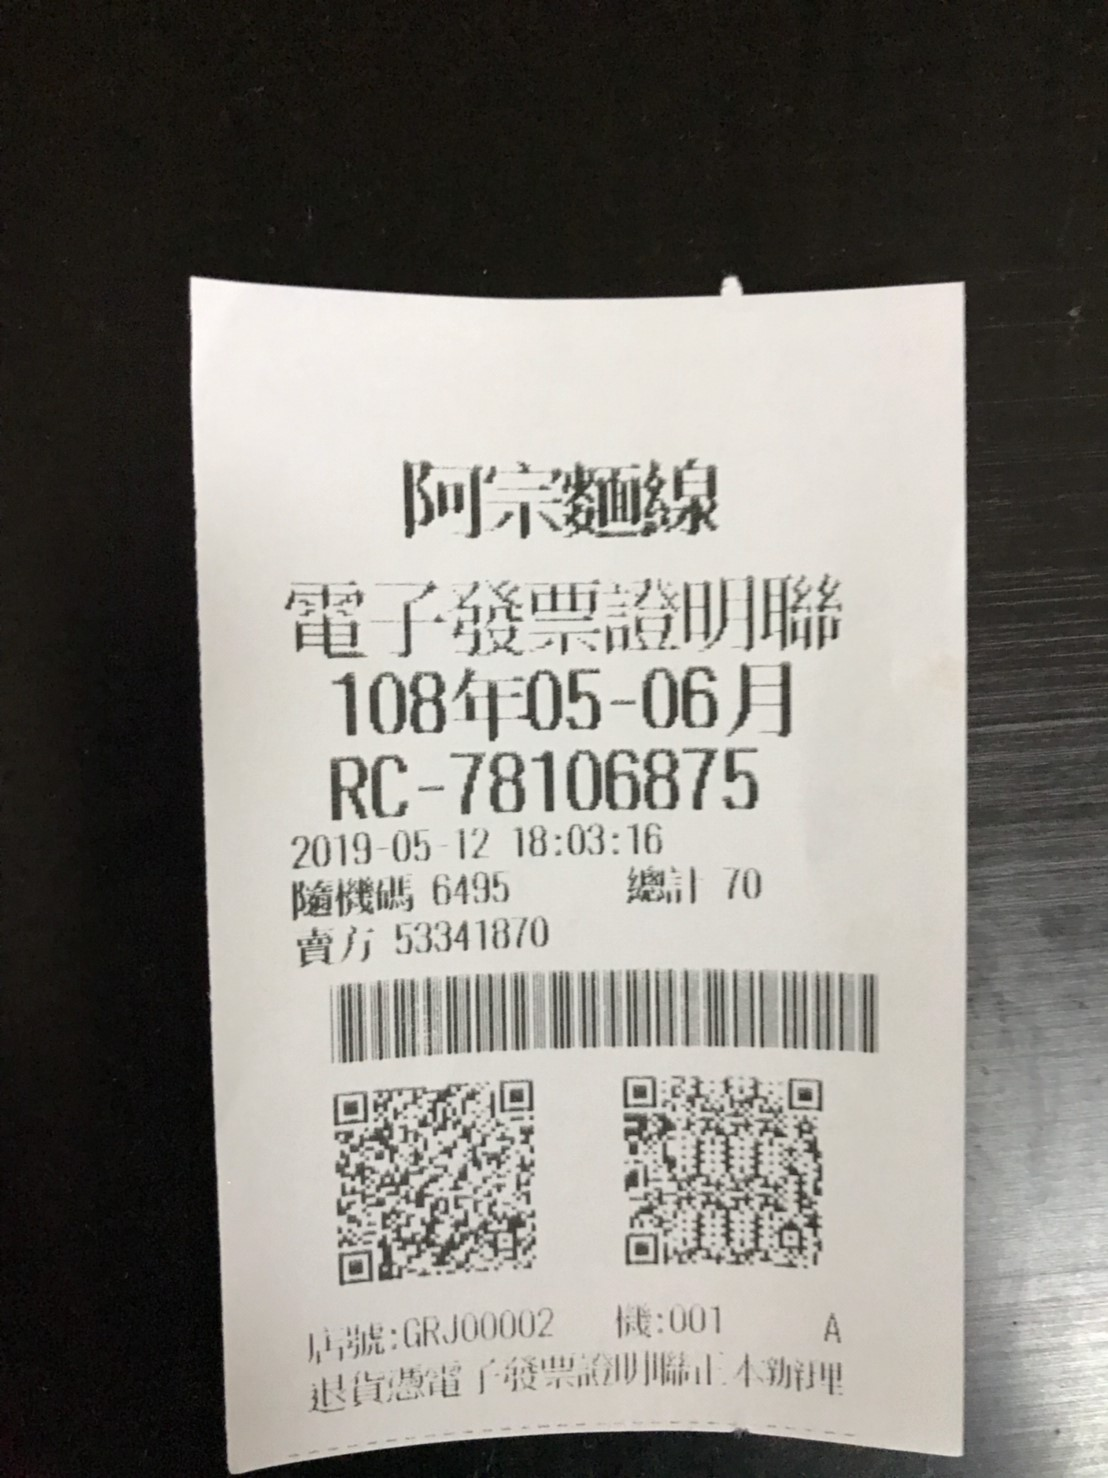Date_New: (329, 660, 795, 742)
Number_New: (452, 748, 766, 812)
